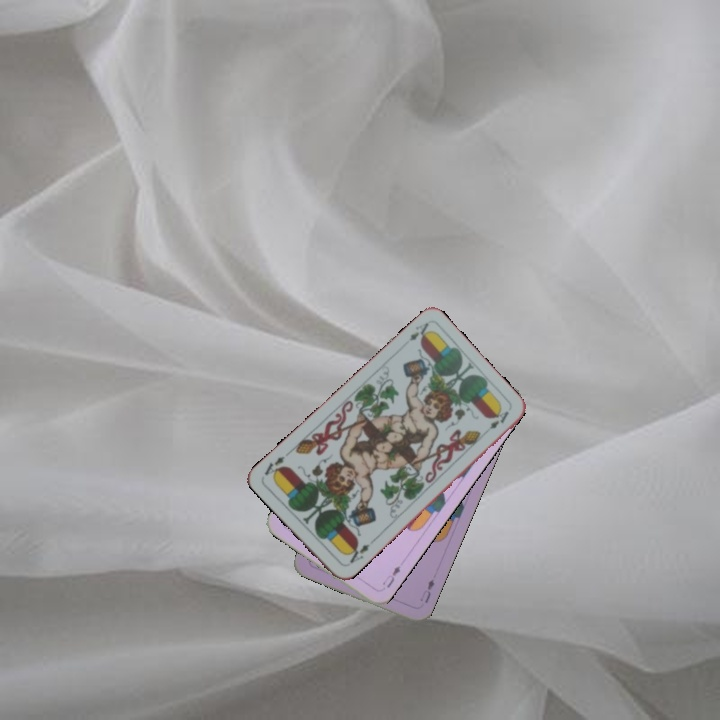EA: (342, 540, 373, 568), (405, 319, 434, 344)
EU: (378, 562, 403, 590), (416, 575, 437, 606)
